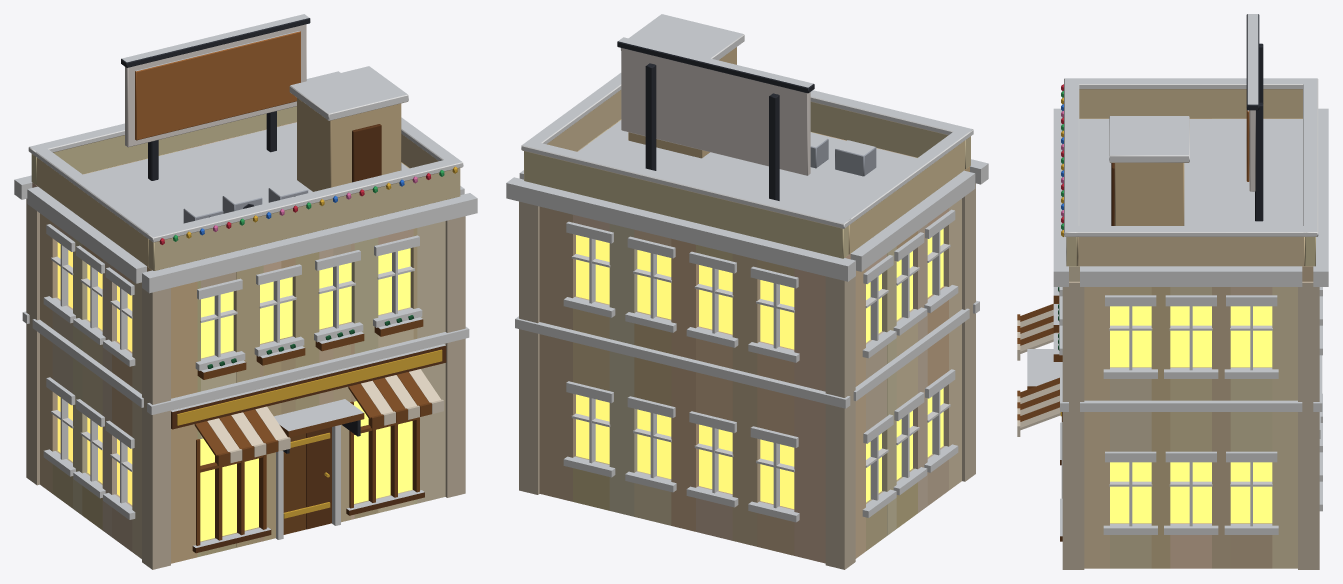
Rendered from Shop_Bakery.glb.
3 renders of one model, left to right at view 1: azimuth 30°, elevation 25°; view 2: azimuth 150°, elevation 25°; view 3: azimuth 270°, elevation 25°, orthographic. The views are drawn at different scales.
Visible parts, largest first — view 1: Shop_Bakery_Roof, Shop_Bakery_Trim, Shop_Bakery_Walls, Shop_Bakery_Shopfront, Shop_Bakery_Glow, Shop_Bakery_Balconies, Shop_Bakery_Lights; view 2: Shop_Bakery_Walls, Shop_Bakery_Roof, Shop_Bakery_Trim, Shop_Bakery_Glow; view 3: Shop_Bakery_Roof, Shop_Bakery_Walls, Shop_Bakery_Trim, Shop_Bakery_Glow, Shop_Bakery_Shopfront, Shop_Bakery_Balconies, Shop_Bakery_Lights.
Boxes of the visible parts, x1,y1,x2,y2 form: Shop_Bakery_Roof: (28, 14, 463, 270); Shop_Bakery_Trim: (14, 175, 477, 569); Shop_Bakery_Walls: (32, 122, 445, 563); Shop_Bakery_Shopfront: (171, 344, 446, 539); Shop_Bakery_Glow: (57, 242, 412, 541); Shop_Bakery_Balconies: (197, 315, 423, 379); Shop_Bakery_Lights: (159, 166, 457, 244); Shop_Bakery_Walls: (539, 119, 969, 563); Shop_Bakery_Roof: (521, 14, 973, 258); Shop_Bakery_Trim: (506, 159, 988, 569); Shop_Bakery_Glow: (576, 228, 943, 508); Shop_Bakery_Roof: (1064, 14, 1318, 266); Shop_Bakery_Walls: (1069, 118, 1313, 568); Shop_Bakery_Trim: (1053, 108, 1328, 569); Shop_Bakery_Glow: (1110, 306, 1272, 523); Shop_Bakery_Shopfront: (1017, 303, 1062, 498); Shop_Bakery_Balconies: (1053, 287, 1062, 361); Shop_Bakery_Lights: (1061, 84, 1063, 236).
Bounding box in the file's own units: 27.8 × 34.45 × 22.42.
